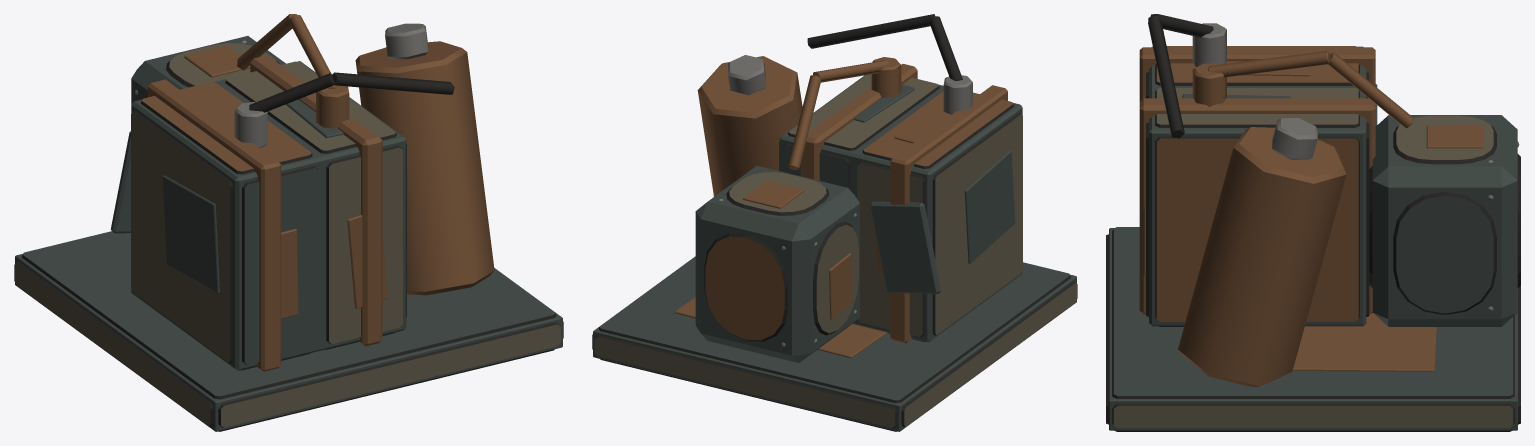
File: R4X_Battery.fbx
3 renders of one model, left to right at view 1: azimuth 30°, elevation 25°; view 2: azimuth 150°, elevation 25°; view 3: azimuth 270°, elevation 25°, orthographic. The views are drawn at different scales.
Visible parts, largest first — view 1: R4X_Battery_Body; view 2: R4X_Battery_Body; view 3: R4X_Battery_Body.
Boxes of the visible parts, <box> form: R4X_Battery_Body: <box>14,14,563,431</box>; R4X_Battery_Body: <box>592,14,1077,431</box>; R4X_Battery_Body: <box>1106,14,1520,431</box>.
Bounding box in the file's own units: 0.52 × 0.4377 × 0.52.
